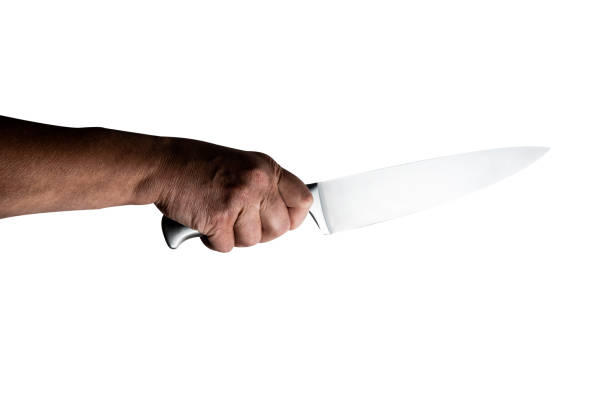knife: (160, 143, 553, 251)
